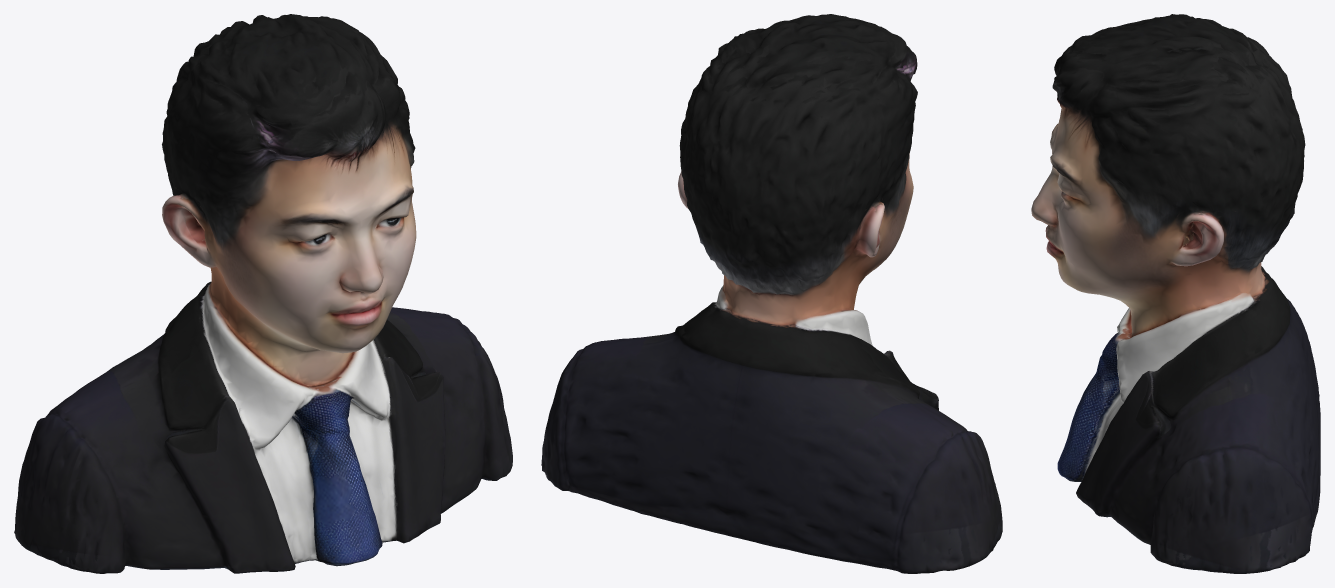
3 renders of one model, left to right at view 1: azimuth 30°, elevation 25°; view 2: azimuth 150°, elevation 25°; view 3: azimuth 270°, elevation 25°, orthographic. The views are drawn at different scales.
Bounding box in the file's own units: 1.91 × 1.9 × 1.13.
Materials: 1 (1 with a texture image).
